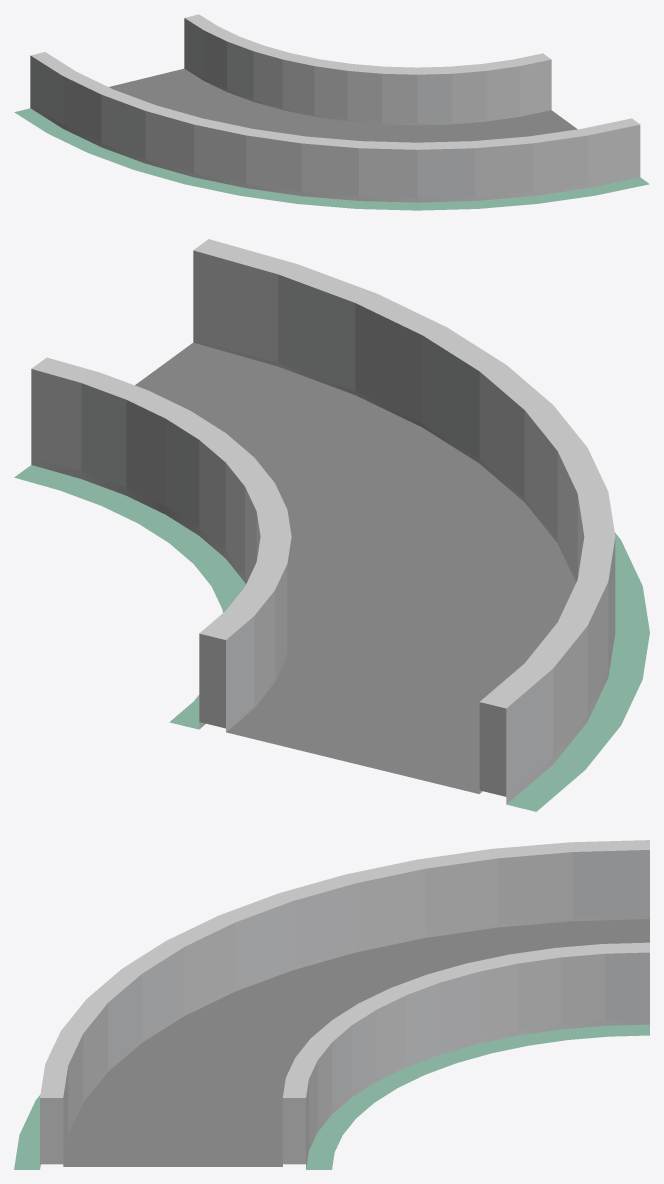
Rendered from roadCornerLargecopy.dae.
The picture shows the model from 3 angles, top to bottom: view 1: azimuth 30°, elevation 25°; view 2: azimuth 150°, elevation 25°; view 3: azimuth 270°, elevation 25°; orthographic projection. The views are drawn at different scales.
Parts seen in each view (by area): view 1: roadCornerLarge; view 2: roadCornerLarge; view 3: roadCornerLarge.
Part boxes in pixels (x1,y1,x2,y2): roadCornerLarge: [14, 14, 649, 210]; roadCornerLarge: [14, 239, 649, 811]; roadCornerLarge: [14, 840, 649, 1169].
Size of the model in its own units: 2 by 2 by 0.25.
